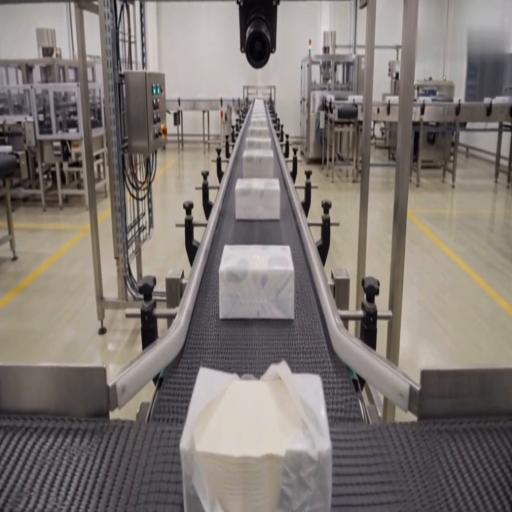defective: (182, 362, 331, 511)
good: (218, 244, 295, 321), (234, 178, 281, 222), (241, 148, 275, 179), (244, 134, 272, 150), (247, 102, 270, 120), (246, 120, 270, 136), (384, 96, 402, 104), (0, 144, 13, 154), (494, 95, 510, 103), (348, 95, 362, 104), (484, 97, 492, 104)
